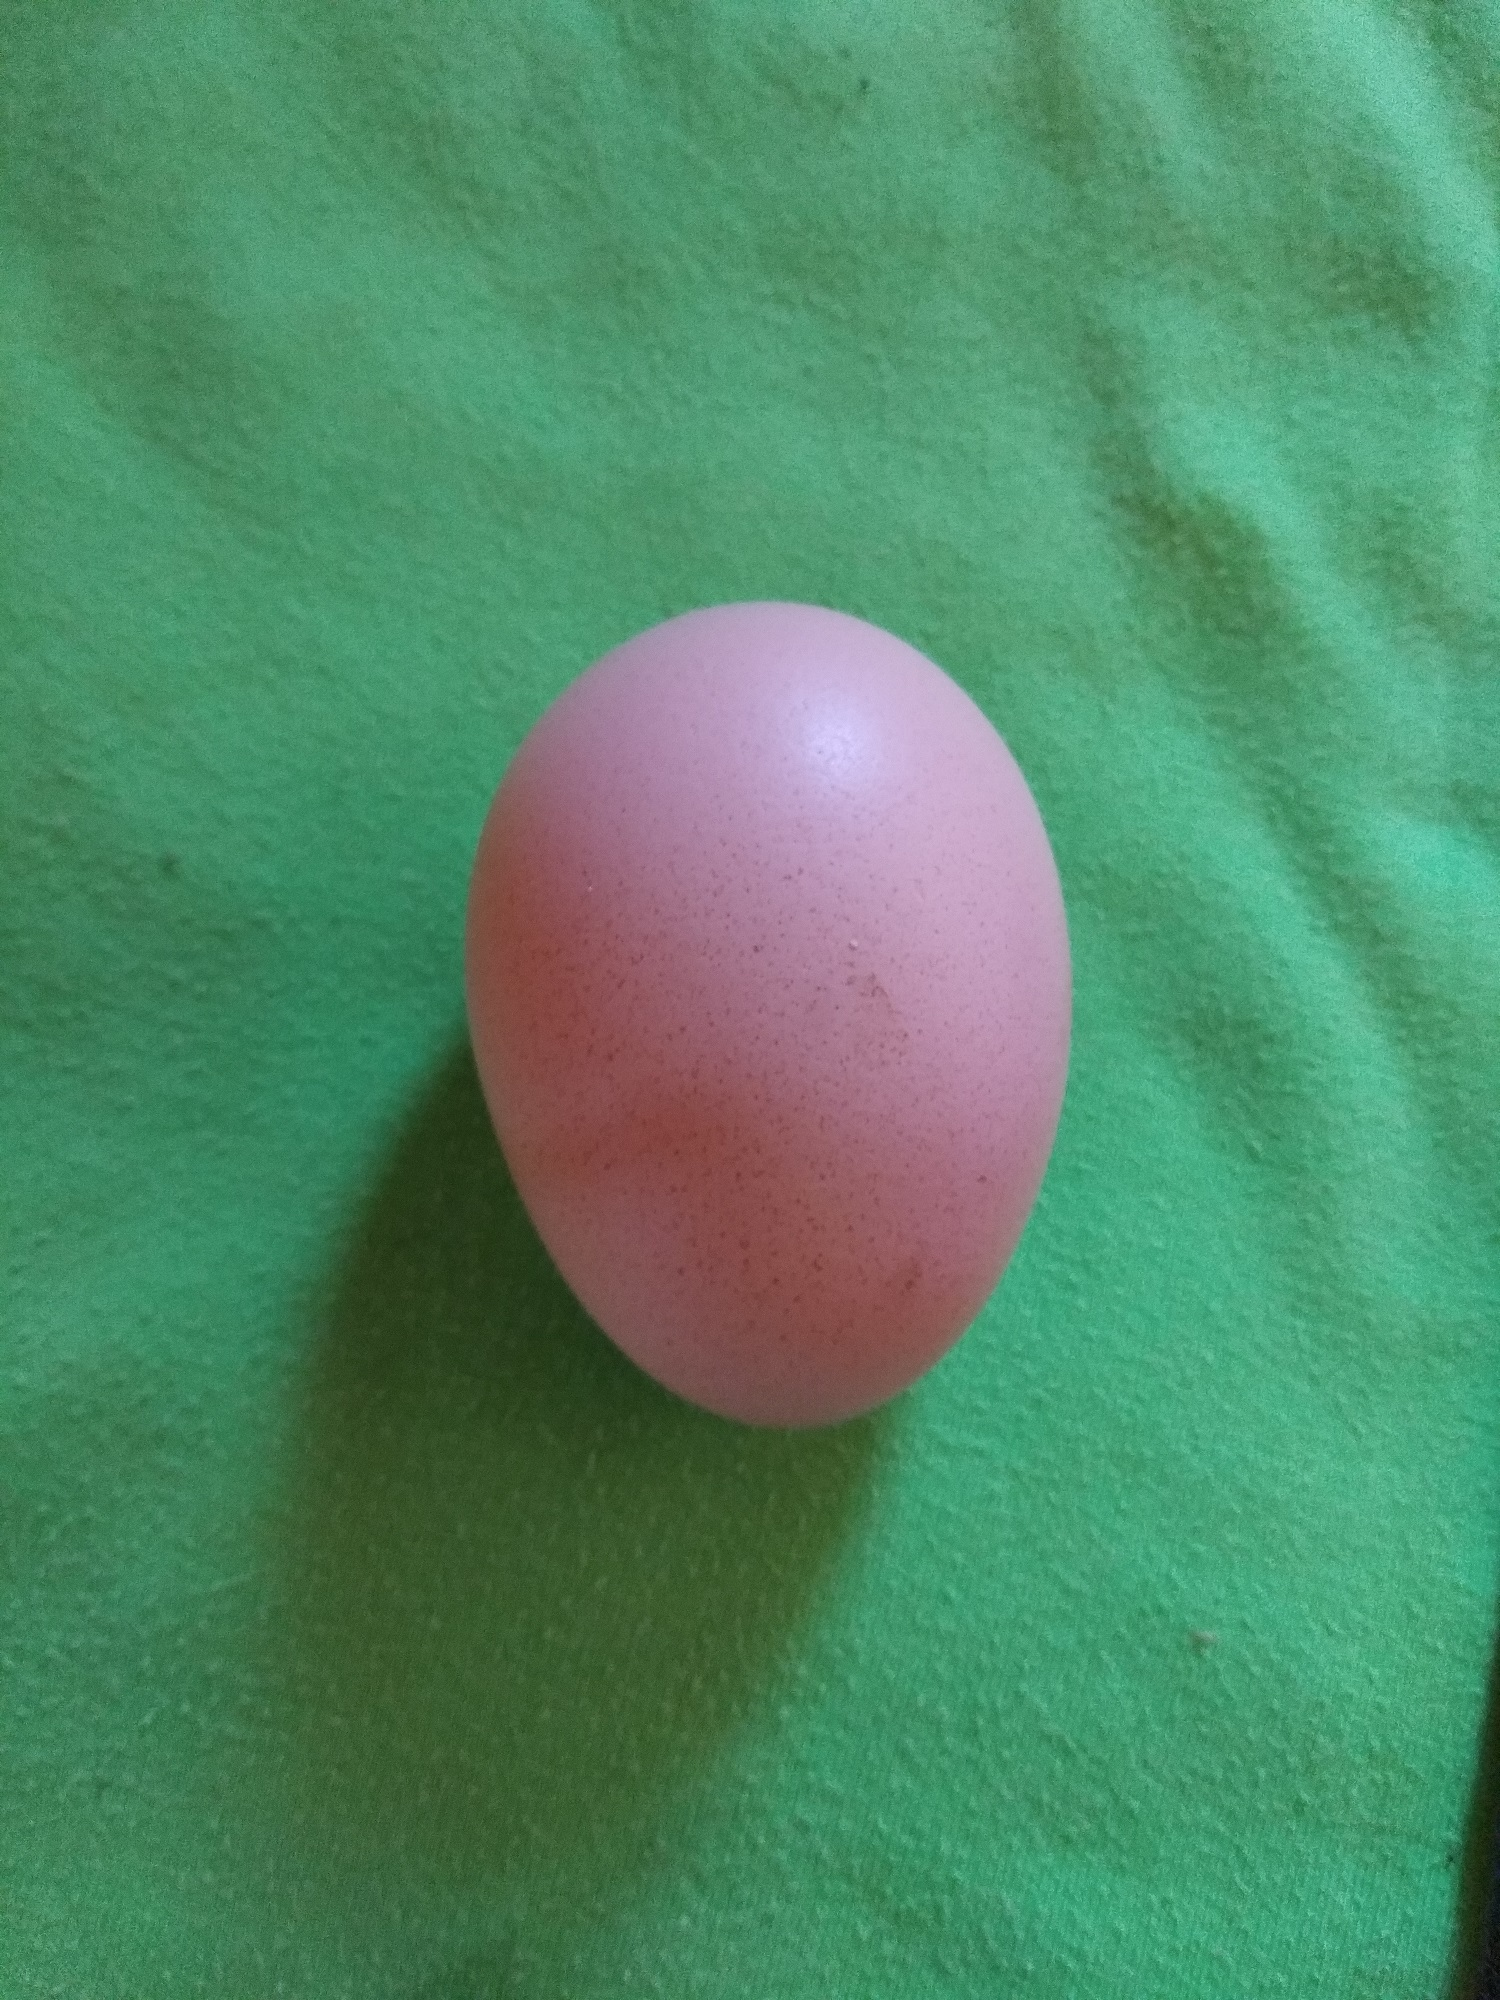Female: (460, 597, 1075, 1436)
